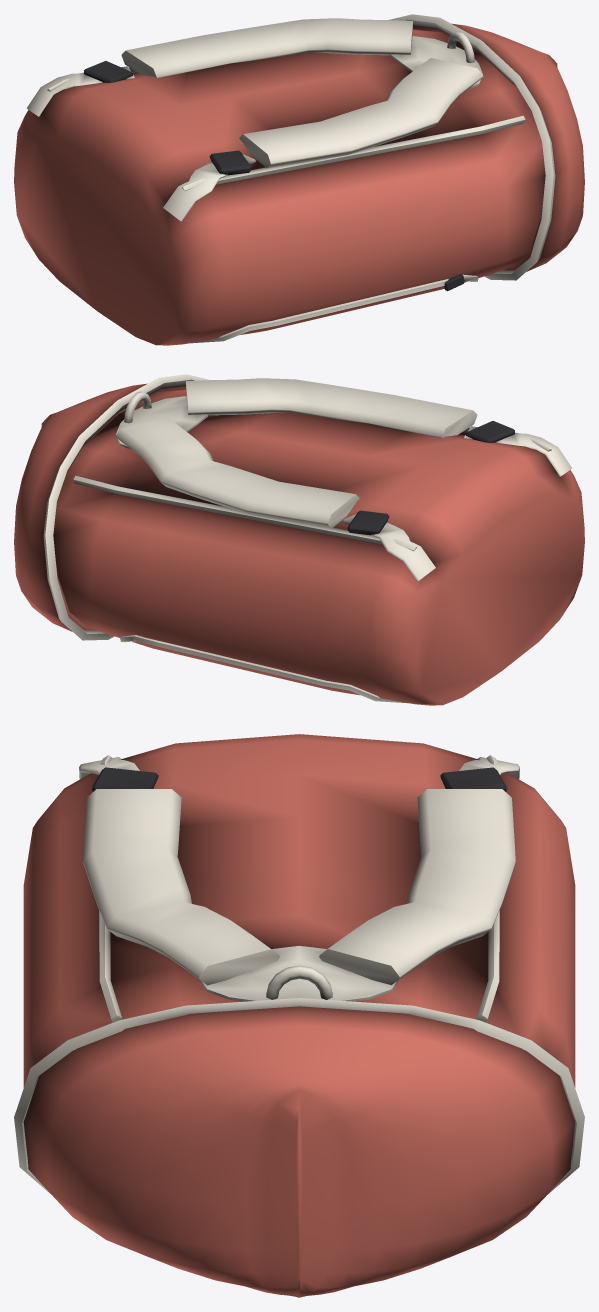
Rendered from pack_old.glb.
3 views of the same model, one above another, from view 1: azimuth 30°, elevation 25°; view 2: azimuth 150°, elevation 25°; view 3: azimuth 270°, elevation 25° (orthographic). The views are drawn at different scales.
Visible parts, largest first — view 1: PART; view 2: PART; view 3: PART.
Part boxes in pixels (<box>): PART: <box>14,14,584,345</box>; PART: <box>14,374,584,705</box>; PART: <box>14,734,584,1297</box>.
Size of the model in its own units: 0.3843 by 0.1509 by 0.2899.
